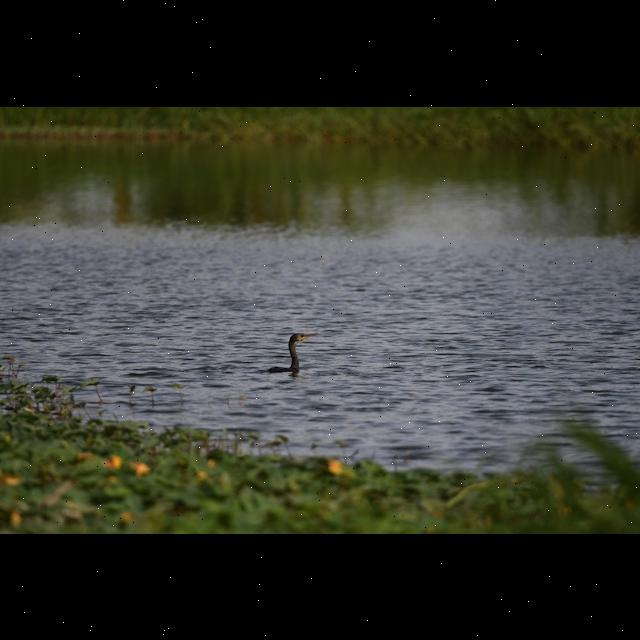cormorant: (266, 326, 320, 374)
